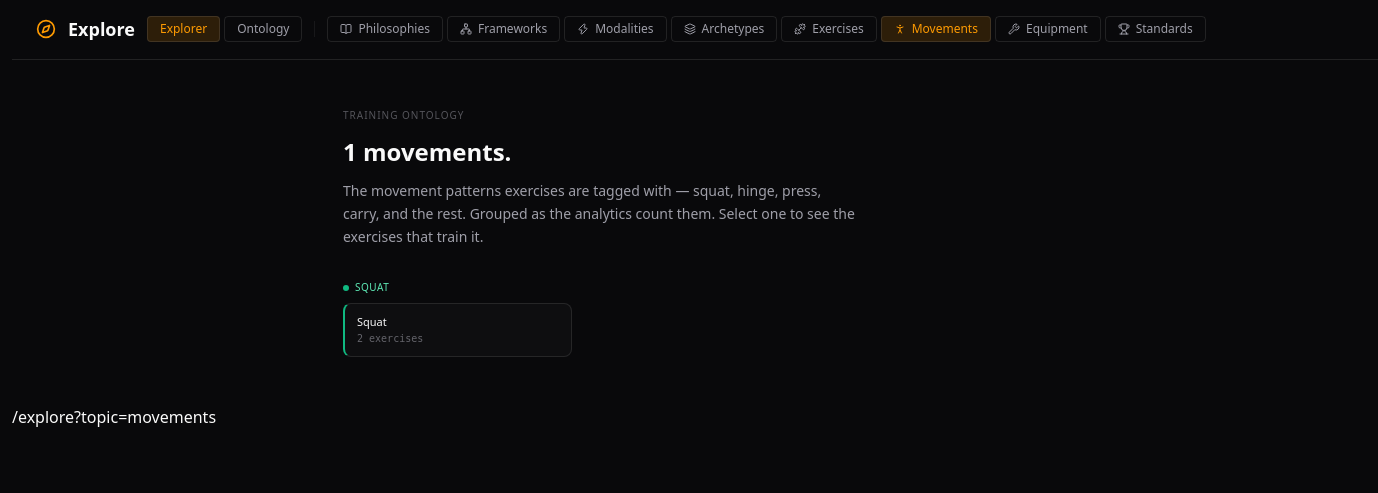
it: Explore › lists the movements under Movements
Expected: the heading "1 movements." is shown, 343,135 -> 512,168
Click the button "Squat 2 exercises".
click(458, 330)  # box 343,303 -> 572,357
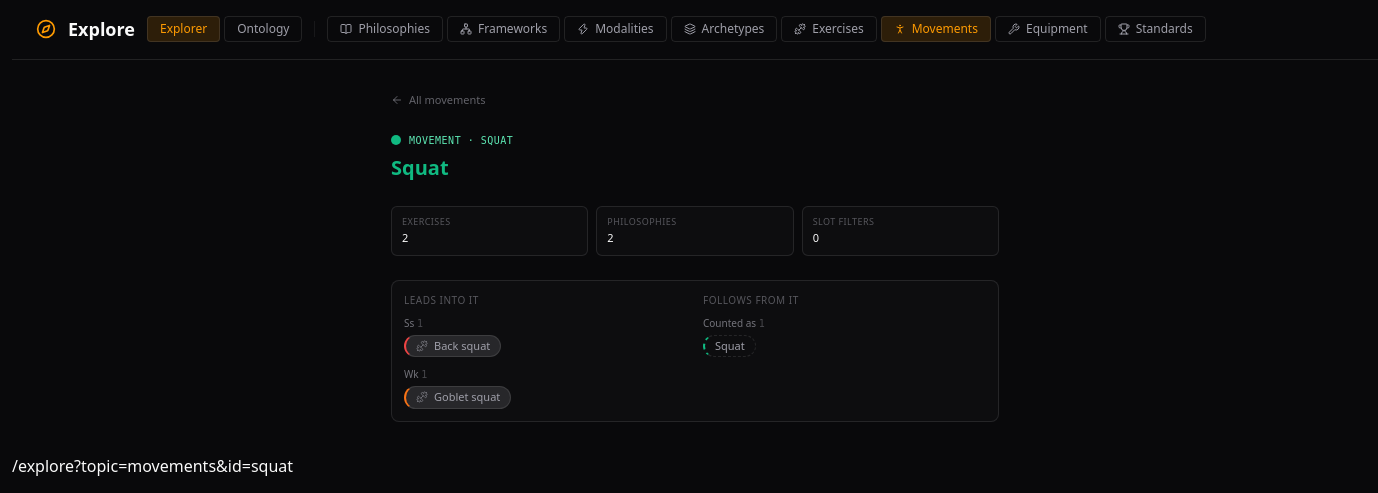
Expected: the text with test id "where" reads "/explore?topic=movements&id=squat", 12,454 -> 293,476
